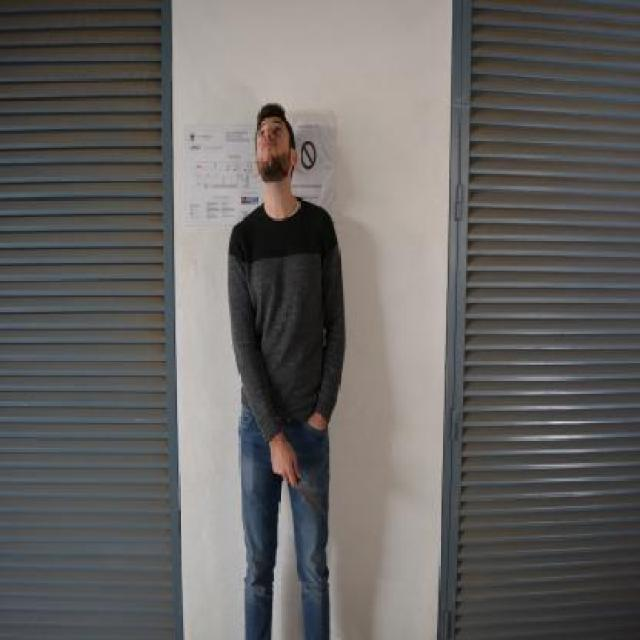-: (283, 463, 328, 520)
